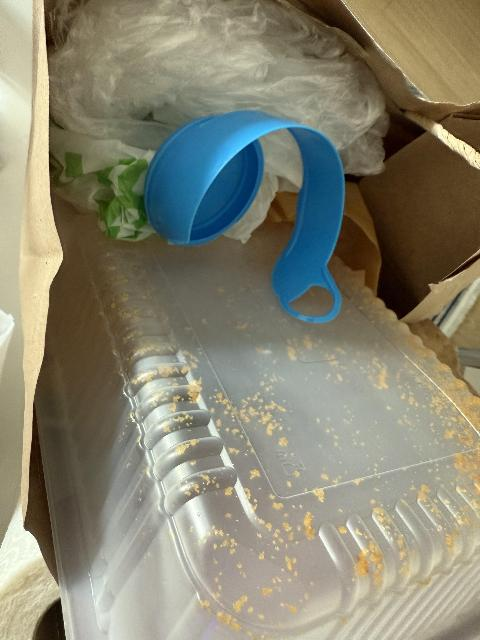Plastik: (157, 121, 362, 324), (90, 0, 365, 116)
